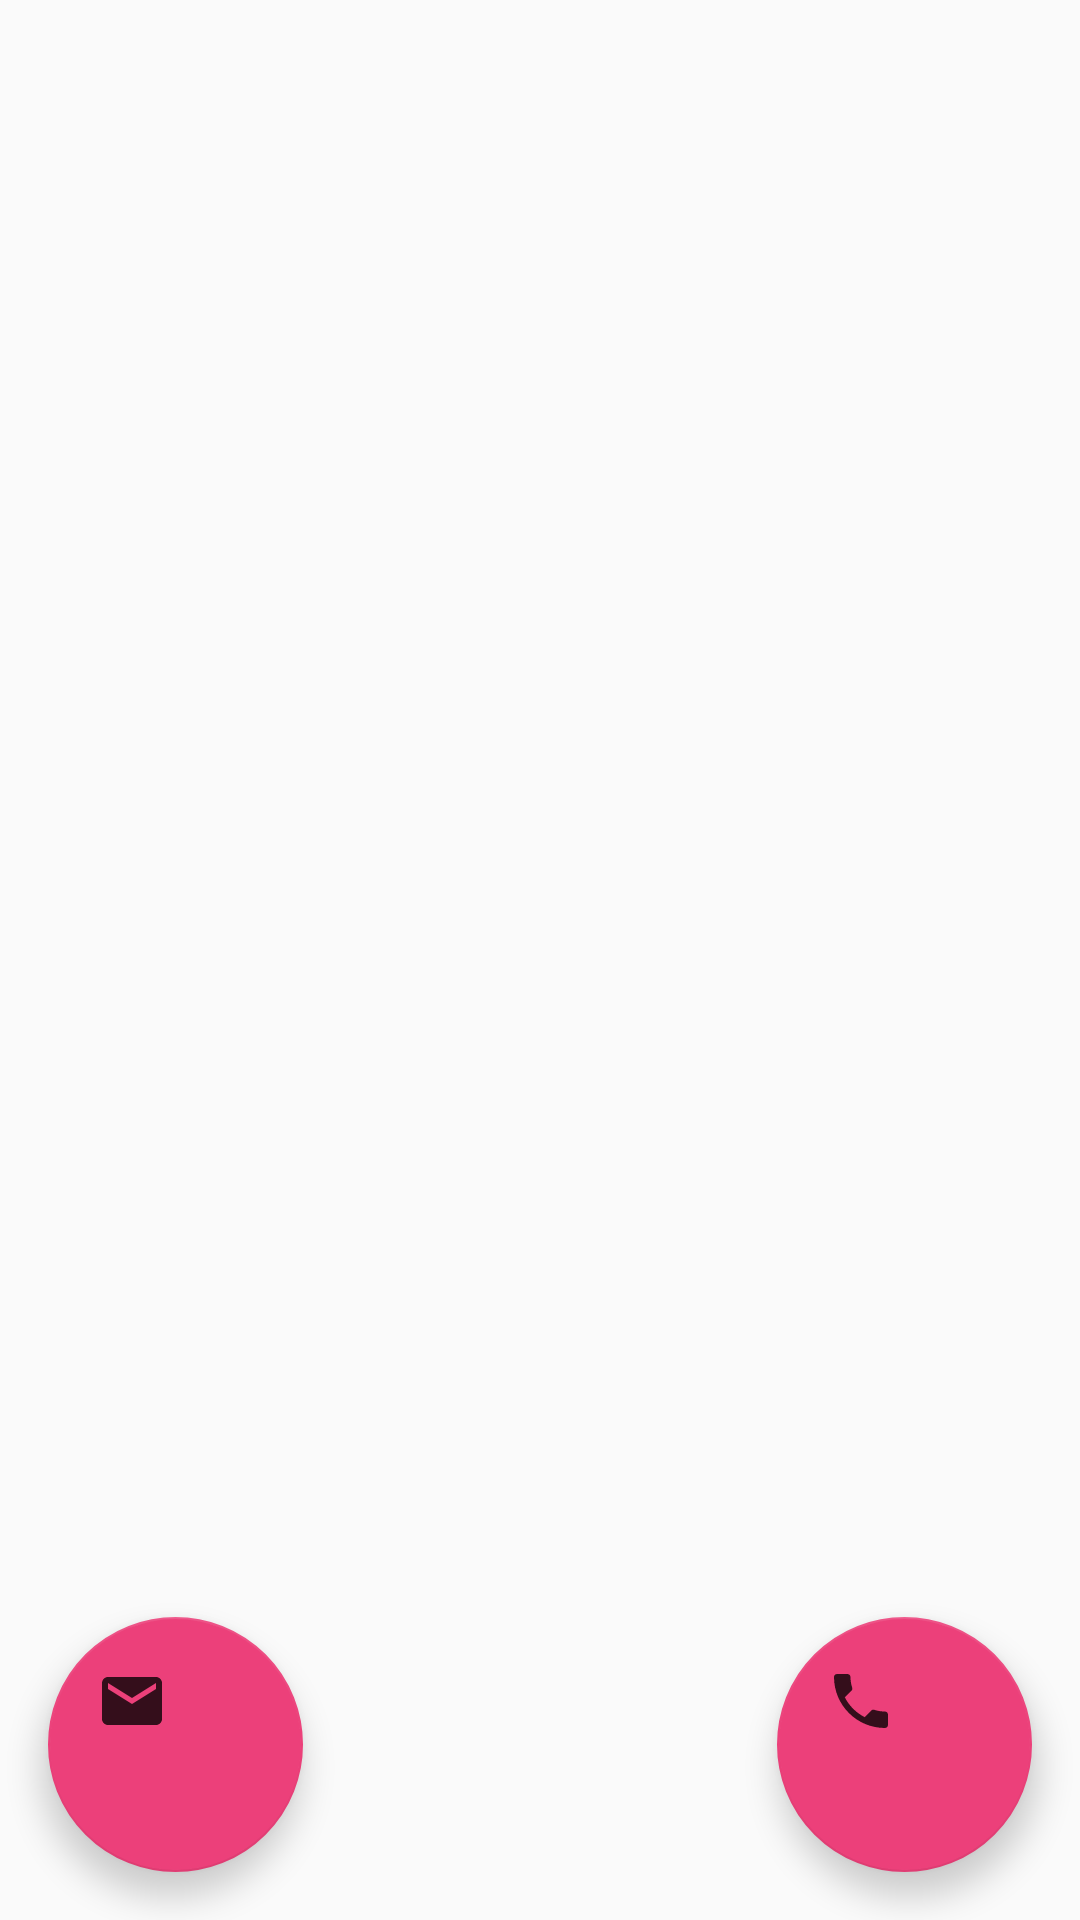

Where icons sit on this 1080 x 1920 app screen, as (x1, y1, x2, y2):
mail: (48, 1617, 303, 1872)
phone: (777, 1617, 1032, 1872)
